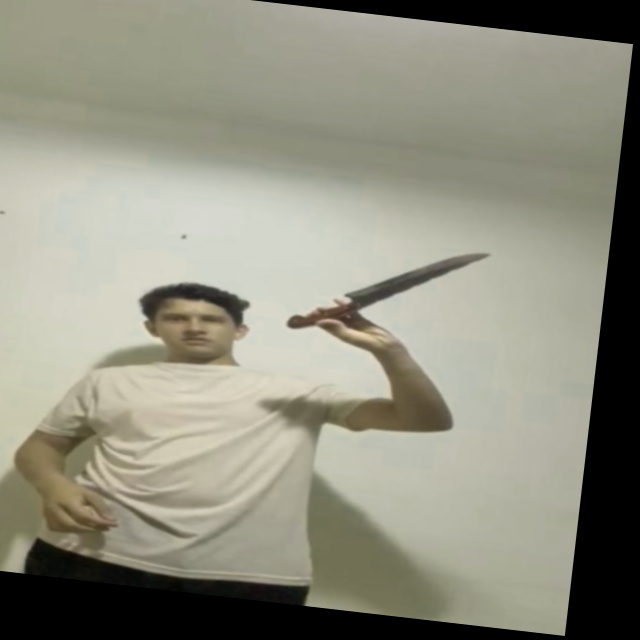Sharp-Object: (339, 235, 492, 320)
